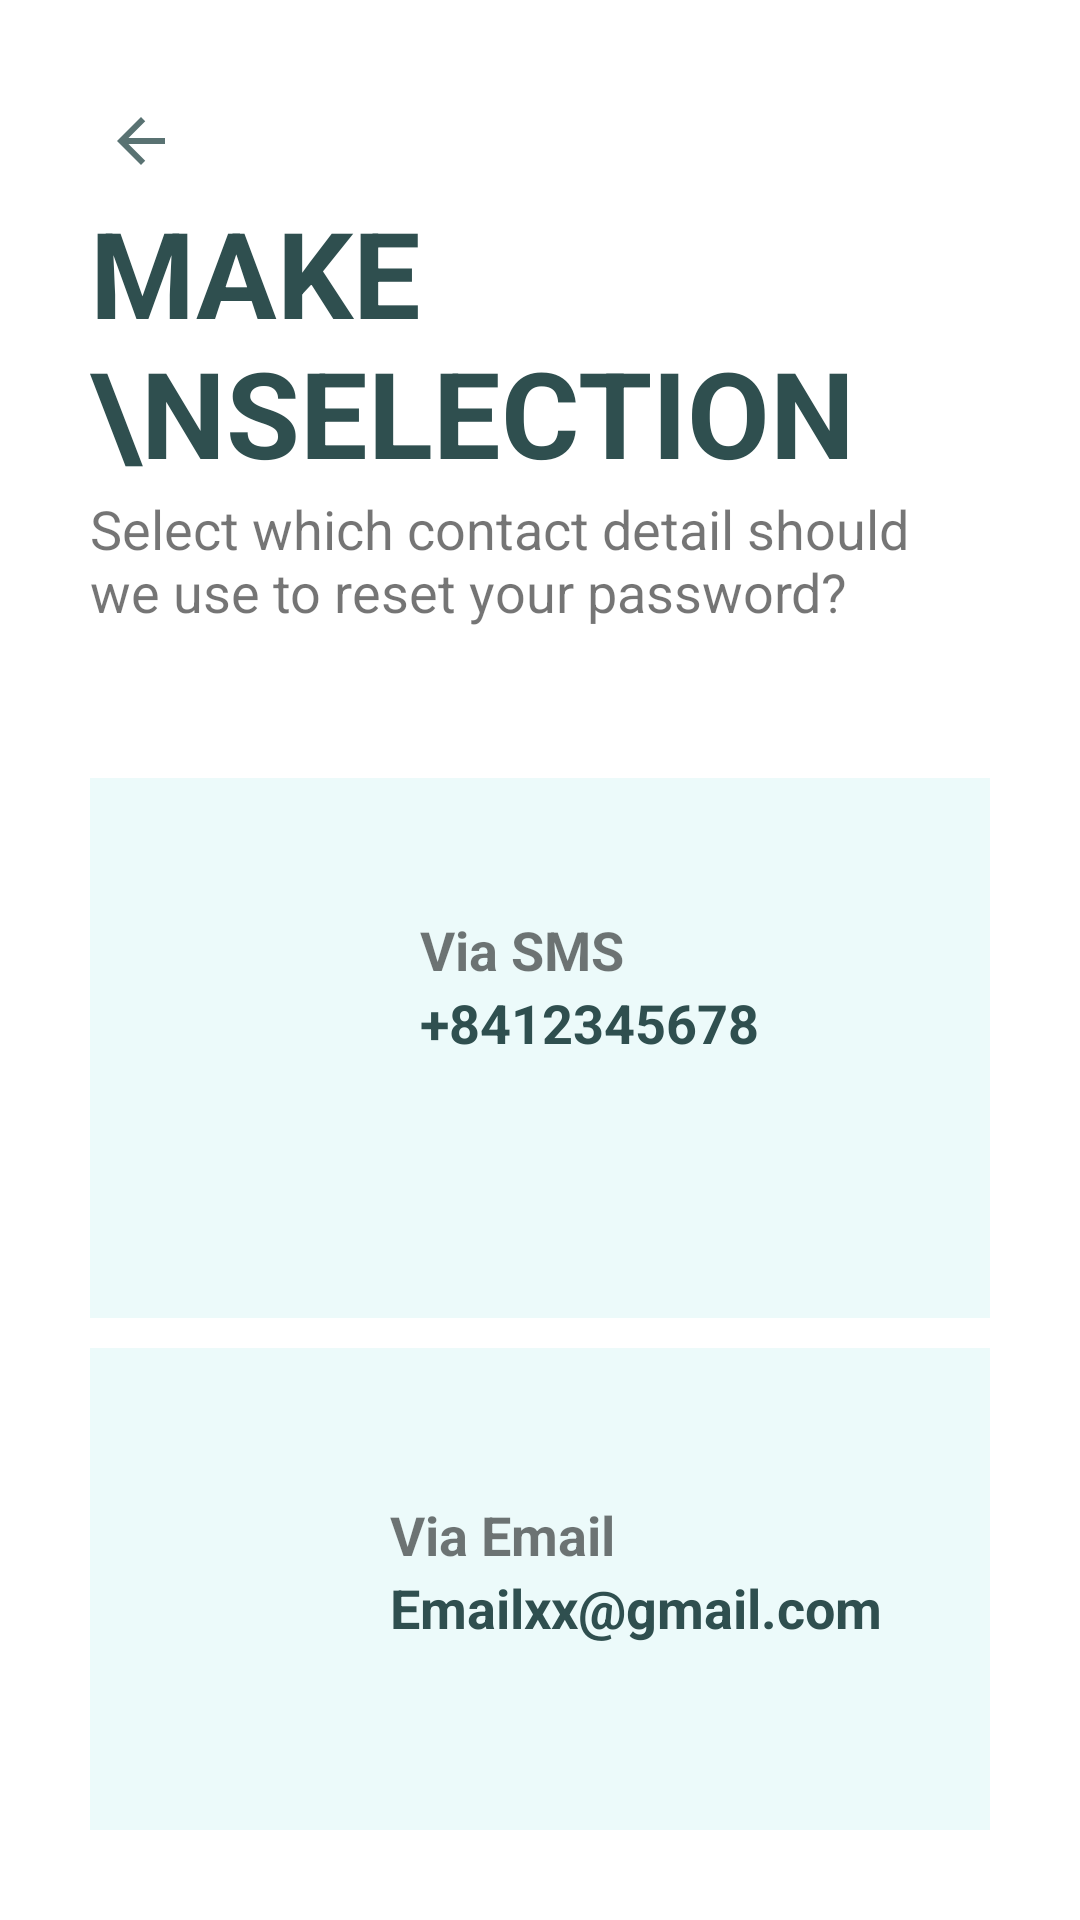

Icons on this 1080px x 1920px Android screen, each with its box as box(x1, y1, x2, y2):
back: box(117, 117, 165, 165)
